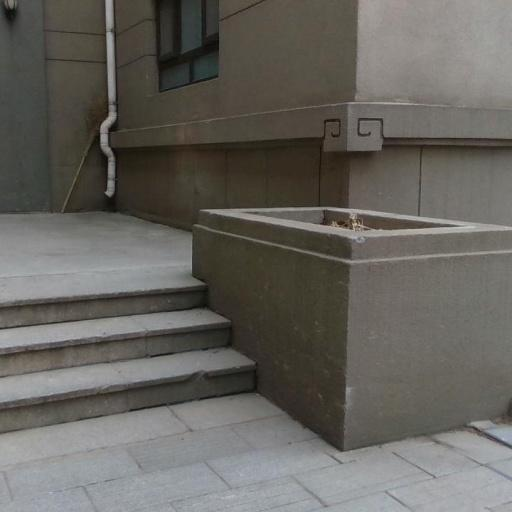stairs: (0, 267, 254, 431)
